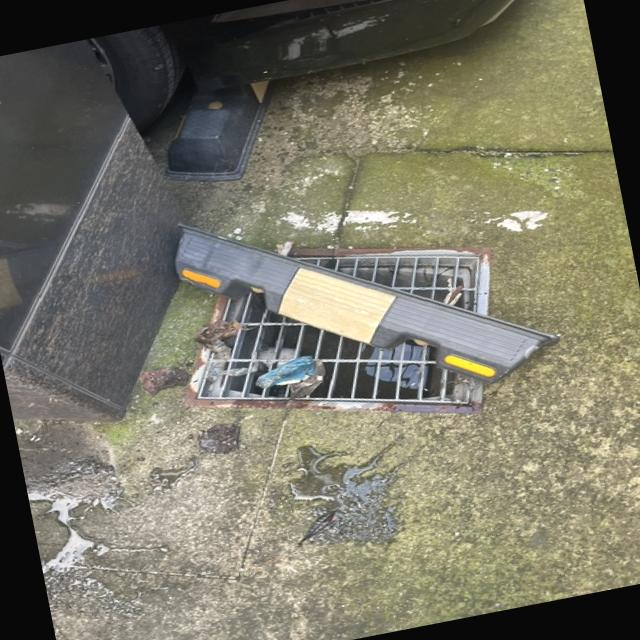drain_area: (200, 289, 472, 403), (295, 257, 481, 312)
drain_full: (197, 257, 482, 404)
